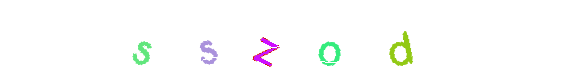D: (344, 0, 424, 80)
O: (247, 0, 327, 80)
S: (182, 0, 262, 80), (204, 0, 284, 80)
Z: (225, 0, 305, 80)
